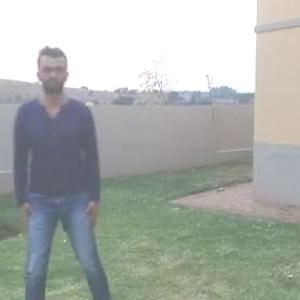follow: (27, 41, 110, 299)
